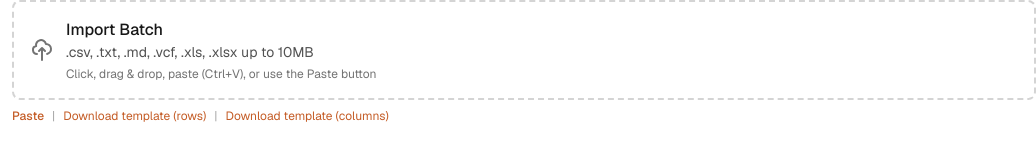
Test case: UploadBatchComponent › shows a hint instead of importing when the clipboard has no text
The width and height of the screenshot is (1036, 165).
Step 1. Click the button "Paste" → click(28, 116), box [12, 108, 44, 124]
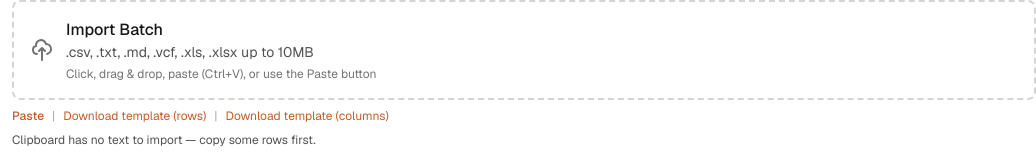
Expected: the text "Clipboard has no text to import — copy some rows first." is shown, [12, 132, 316, 148]
